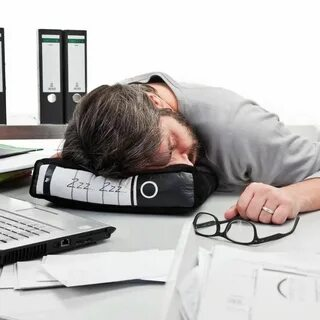sleep: (49, 72, 320, 226)
